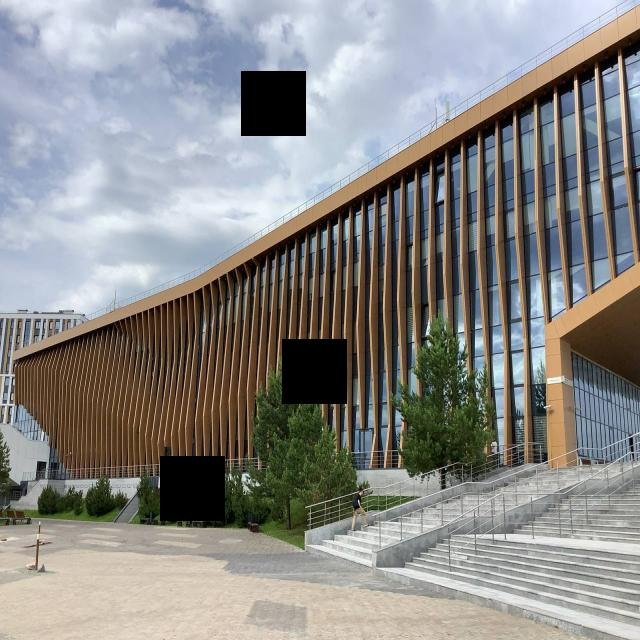Building: (12, 0, 640, 480)
